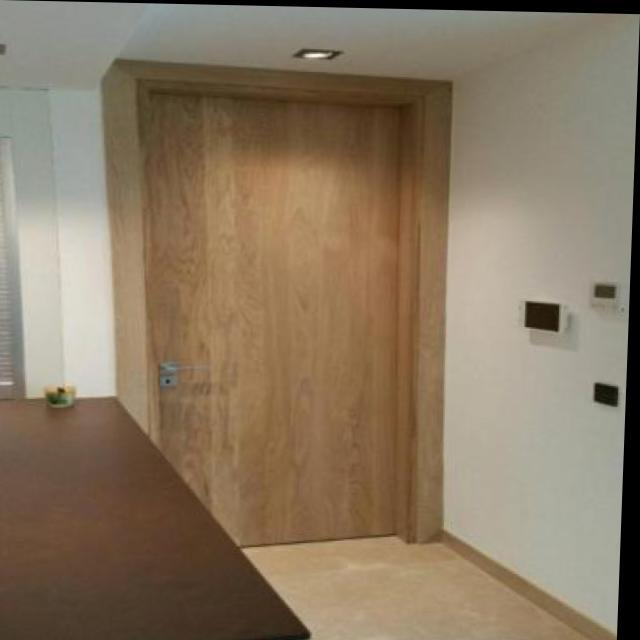door_handle: (160, 361, 213, 378)
